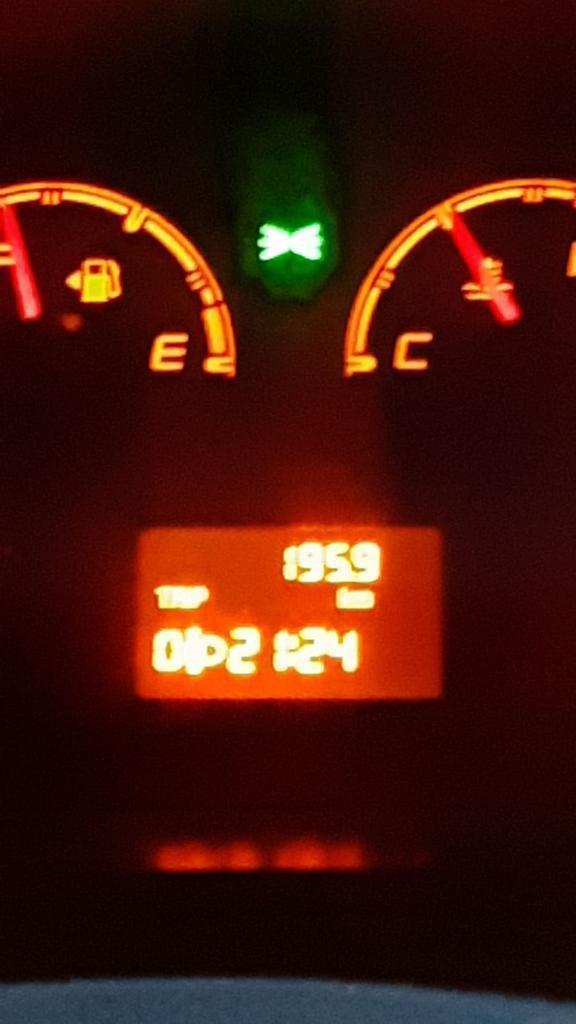,: (352, 570, 358, 585)
0: (152, 626, 183, 674)
1: (272, 624, 288, 676), (281, 540, 296, 584)
2: (226, 626, 260, 676), (300, 625, 327, 675)
4: (327, 627, 361, 674)
5: (324, 540, 351, 584)
9: (352, 539, 382, 584), (297, 540, 322, 585)
X: (352, 589, 375, 612), (191, 584, 210, 611), (334, 584, 352, 612), (288, 631, 300, 670), (155, 584, 169, 611), (170, 584, 181, 612), (182, 584, 191, 614)
odometer: (120, 514, 459, 708)
